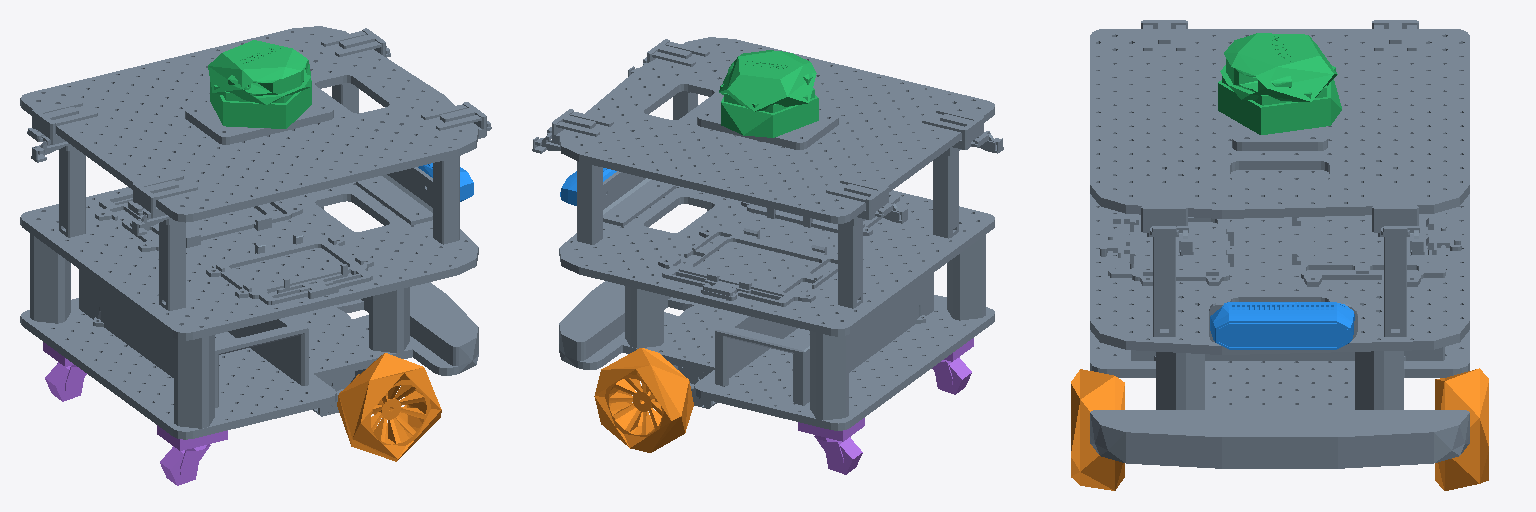
robot.urdf — ijkbot_locking_deck_rviz:
<?xml version="1.0"?>
<robot name="ijkbot_locking_deck_rviz">
  <!-- Статическая CAD-модель для RViz. Начала координат датчиков привязаны к корпусам. -->
  <material name="chassis_gray">
    <color rgba="0.54 0.60 0.66 1" />
  </material>
  <material name="lidar_green">
    <color rgba="0.22 0.78 0.46 1" />
  </material>
  <material name="camera_blue">
    <color rgba="0.20 0.62 1 1" />
  </material>
  <material name="wheel_amber">
    <color rgba="1 0.61 0.20 1" />
  </material>
  <material name="caster_purple">
    <color rgba="0.72 0.48 0.93 1" />
  </material>
  <link name="base_footprint" />
  <link name="base_link">
    <visual name="visual_0003">
      <origin xyz="-0.1763000 -0.0745500 -0.0424000" rpy="0 0 3.141592653589793" />
      <geometry>
        <mesh filename="package://description/meshes/locking_deck/body_0003.stl" />
      </geometry>
      <material name="chassis_gray" />
    </visual>
    <visual name="visual_0004">
      <origin xyz="-0.1763000 -0.0745500 -0.0424000" rpy="0 0 3.141592653589793" />
      <geometry>
        <mesh filename="package://description/meshes/locking_deck/body_0004.stl" />
      </geometry>
      <material name="chassis_gray" />
    </visual>
    <visual name="visual_0005">
      <origin xyz="-0.1763000 -0.0745500 -0.0424000" rpy="0 0 3.141592653589793" />
      <geometry>
        <mesh filename="package://description/meshes/locking_deck/body_0005.stl" />
      </geometry>
      <material name="chassis_gray" />
    </visual>
    <visual name="visual_0007">
      <origin xyz="-0.1763000 -0.0745500 -0.0424000" rpy="0 0 3.141592653589793" />
      <geometry>
        <mesh filename="package://description/meshes/locking_deck/body_0007.stl" />
      </geometry>
      <material name="chassis_gray" />
    </visual>
    <visual name="visual_0008">
      <origin xyz="-0.1763000 -0.0745500 -0.0424000" rpy="0 0 3.141592653589793" />
      <geometry>
        <mesh filename="package://description/meshes/locking_deck/body_0008.stl" />
      </geometry>
      <material name="chassis_gray" />
    </visual>
    <visual name="visual_0009">
      <origin xyz="-0.1763000 -0.0745500 -0.0424000" rpy="0 0 3.141592653589793" />
      <geometry>
        <mesh filename="package://description/meshes/locking_deck/body_0009.stl" />
      </geometry>
      <material name="chassis_gray" />
    </visual>
    <visual name="visual_0010">
      <origin xyz="-0.1763000 -0.0745500 -0.0424000" rpy="0 0 3.141592653589793" />
      <geometry>
        <mesh filename="package://description/meshes/locking_deck/body_0010.stl" />
      </geometry>
      <material name="chassis_gray" />
    </visual>
    <visual name="visual_0011">
      <origin xyz="-0.1763000 -0.0745500 -0.0424000" rpy="0 0 3.141592653589793" />
      <geometry>
        <mesh filename="package://description/meshes/locking_deck/body_0011.stl" />
      </geometry>
      <material name="chassis_gray" />
    </visual>
    <visual name="visual_0016">
      <origin xyz="-0.1763000 -0.0745500 -0.0424000" rpy="0 0 3.141592653589793" />
      <geometry>
        <mesh filename="package://description/meshes/locking_deck/body_0016.stl" />
      </geometry>
      <material name="chassis_gray" />
    </visual>
    <visual name="visual_0017">
      <origin xyz="-0.1763000 -0.0745500 -0.0424000" rpy="0 0 3.141592653589793" />
      <geometry>
        <mesh filename="package://description/meshes/locking_deck/body_0017.stl" />
      </geometry>
      <material name="chassis_gray" />
    </visual>
    <visual name="visual_0018">
      <origin xyz="-0.1763000 -0.0745500 -0.0424000" rpy="0 0 3.141592653589793" />
      <geometry>
        <mesh filename="package://description/meshes/locking_deck/body_0018.stl" />
      </geometry>
      <material name="chassis_gray" />
    </visual>
    <visual name="visual_0019">
      <origin xyz="-0.1763000 -0.0745500 -0.0424000" rpy="0 0 3.141592653589793" />
      <geometry>
        <mesh filename="package://description/meshes/locking_deck/body_0019.stl" />
      </geometry>
      <material name="chassis_gray" />
    </visual>
    <visual name="visual_0020">
      <origin xyz="-0.1763000 -0.0745500 -0.0424000" rpy="0 0 3.141592653589793" />
      <geometry>
        <mesh filename="package://description/meshes/locking_deck/body_0020.stl" />
      </geometry>
      <material name="chassis_gray" />
    </visual>
    <visual name="visual_0021">
      <origin xyz="-0.1763000 -0.0745500 -0.0424000" rpy="0 0 3.141592653589793" />
      <geometry>
        <mesh filename="package://description/meshes/locking_deck/body_0021.stl" />
      </geometry>
      <material name="chassis_gray" />
    </visual>
    <visual name="visual_0022">
      <origin xyz="-0.1763000 -0.0745500 -0.0424000" rpy="0 0 3.141592653589793" />
      <geometry>
        <mesh filename="package://description/meshes/locking_deck/body_0022.stl" />
      </geometry>
      <material name="chassis_gray" />
    </visual>
    <visual name="visual_0023">
      <origin xyz="-0.1763000 -0.0745500 -0.0424000" rpy="0 0 3.141592653589793" />
      <geometry>
        <mesh filename="package://description/meshes/locking_deck/body_0023.stl" />
      </geometry>
      <material name="chassis_gray" />
    </visual>
    <visual name="visual_0024">
      <origin xyz="-0.1763000 -0.0745500 -0.0424000" rpy="0 0 3.141592653589793" />
      <geometry>
        <mesh filename="package://description/meshes/locking_deck/body_0024.stl" />
      </geometry>
      <material name="chassis_gray" />
    </visual>
    <visual name="visual_0025">
      <origin xyz="-0.1763000 -0.0745500 -0.0424000" rpy="0 0 3.141592653589793" />
      <geometry>
        <mesh filename="package://description/meshes/locking_deck/body_0025.stl" />
      </geometry>
      <material name="chassis_gray" />
    </visual>
    <visual name="visual_0028">
      <origin xyz="-0.1763000 -0.0745500 -0.0424000" rpy="0 0 3.141592653589793" />
      <geometry>
        <mesh filename="package://description/meshes/locking_deck/body_0028.stl" />
      </geometry>
      <material name="chassis_gray" />
    </visual>
    <visual name="visual_0029">
      <origin xyz="-0.1763000 -0.0745500 -0.0424000" rpy="0 0 3.141592653589793" />
      <geometry>
        <mesh filename="package://description/meshes/locking_deck/body_0029.stl" />
      </geometry>
      <material name="chassis_gray" />
    </visual>
    <visual name="visual_0030">
      <origin xyz="-0.1763000 -0.0745500 -0.0424000" rpy="0 0 3.141592653589793" />
      <geometry>
        <mesh filename="package://description/meshes/locking_deck/body_0030.stl" />
      </geometry>
      <material name="chassis_gray" />
    </visual>
    <visual name="visual_0031">
      <origin xyz="-0.1763000 -0.0745500 -0.0424000" rpy="0 0 3.141592653589793" />
      <geometry>
        <mesh filename="package://description/meshes/locking_deck/body_0031.stl" />
      </geometry>
      <material name="chassis_gray" />
    </visual>
    <visual name="visual_0032">
      <origin xyz="-0.1763000 -0.0745500 -0.0424000" rpy="0 0 3.141592653589793" />
      <geometry>
        <mesh filename="package://description/meshes/locking_deck/body_0032.stl" />
      </geometry>
      <material name="chassis_gray" />
    </visual>
    <visual name="visual_0033">
      <origin xyz="-0.1763000 -0.0745500 -0.0424000" rpy="0 0 3.141592653589793" />
      <geometry>
        <mesh filename="package://description/meshes/locking_deck/body_0033.stl" />
      </geometry>
      <material name="chassis_gray" />
    </visual>
    <visual name="visual_0034">
      <origin xyz="-0.1763000 -0.0745500 -0.0424000" rpy="0 0 3.141592653589793" />
      <geometry>
        <mesh filename="package://description/meshes/locking_deck/body_0034.stl" />
      </geometry>
      <material name="chassis_gray" />
    </visual>
    <visual name="visual_0035">
      <origin xyz="-0.1763000 -0.0745500 -0.0424000" rpy="0 0 3.141592653589793" />
      <geometry>
        <mesh filename="package://description/meshes/locking_deck/body_0035.stl" />
      </geometry>
      <material name="chassis_gray" />
    </visual>
    <visual name="visual_0036">
      <origin xyz="-0.1763000 -0.0745500 -0.0424000" rpy="0 0 3.141592653589793" />
      <geometry>
        <mesh filename="package://description/meshes/locking_deck/body_0036.stl" />
      </geometry>
      <material name="chassis_gray" />
    </visual>
    <visual name="visual_0039">
      <origin xyz="-0.1763000 -0.0745500 -0.0424000" rpy="0 0 3.141592653589793" />
      <geometry>
        <mesh filename="package://description/meshes/locking_deck/body_0039.stl" />
      </geometry>
      <material name="chassis_gray" />
    </visual>
  </link>
  <joint name="base_joint" type="fixed">
    <parent link="base_footprint" />
    <child link="base_link" />
    <origin xyz="0.0000000 0.0000000 0.0375000" />
  </joint>
  <link name="lidar_link">
    <visual name="visual_0026">
      <origin xyz="-0.1350000 -0.0740000 -0.2673000" rpy="0 0 3.141592653589793" />
      <geometry>
        <mesh filename="package://description/meshes/locking_deck/body_0026.stl" />
      </geometry>
      <material name="lidar_green" />
    </visual>
    <visual name="visual_0027">
      <origin xyz="-0.1350000 -0.0740000 -0.2673000" rpy="0 0 3.141592653589793" />
      <geometry>
        <mesh filename="package://description/meshes/locking_deck/body_0027.stl" />
      </geometry>
      <material name="lidar_green" />
    </visual>
  </link>
  <joint name="lidar_joint" type="fixed">
    <parent link="base_link" />
    <child link="lidar_link" />
    <origin xyz="-0.0413000 -0.0005500 0.2249000" />
  </joint>
  <link name="camera_link">
    <visual name="visual_0037">
      <origin xyz="-0.2730000 -0.0762000 -0.1562000" rpy="0 0 3.141592653589793" />
      <geometry>
        <mesh filename="package://description/meshes/locking_deck/body_0037.stl" />
      </geometry>
      <material name="camera_blue" />
    </visual>
    <visual name="visual_0038">
      <origin xyz="-0.2730000 -0.0762000 -0.1562000" rpy="0 0 3.141592653589793" />
      <geometry>
        <mesh filename="package://description/meshes/locking_deck/body_0038.stl" />
      </geometry>
      <material name="camera_blue" />
    </visual>
  </link>
  <joint name="camera_joint" type="fixed">
    <parent link="base_link" />
    <child link="camera_link" />
    <origin xyz="0.0967000 0.0016500 0.1138000" />
  </joint>
  <link name="wheel_left_link">
    <visual name="visual_0012">
      <origin xyz="-0.1763000 -0.1849000 -0.0424000" rpy="0 0 3.141592653589793" />
      <geometry>
        <mesh filename="package://description/meshes/locking_deck/body_0012.stl" />
      </geometry>
      <material name="wheel_amber" />
    </visual>
    <visual name="visual_0013">
      <origin xyz="-0.1763000 -0.1849000 -0.0424000" rpy="0 0 3.141592653589793" />
      <geometry>
        <mesh filename="package://description/meshes/locking_deck/body_0013.stl" />
      </geometry>
      <material name="wheel_amber" />
    </visual>
  </link>
  <joint name="wheel_left_joint" type="fixed">
    <parent link="base_link" />
    <child link="wheel_left_link" />
    <origin xyz="0.0000000 0.1103500 0.0000000" />
  </joint>
  <link name="wheel_right_link">
    <visual name="visual_0001">
      <origin xyz="-0.1763000 0.0358000 -0.0424000" rpy="0 0 3.141592653589793" />
      <geometry>
        <mesh filename="package://description/meshes/locking_deck/body_0001.stl" />
      </geometry>
      <material name="wheel_amber" />
    </visual>
    <visual name="visual_0002">
      <origin xyz="-0.1763000 0.0358000 -0.0424000" rpy="0 0 3.141592653589793" />
      <geometry>
        <mesh filename="package://description/meshes/locking_deck/body_0002.stl" />
      </geometry>
      <material name="wheel_amber" />
    </visual>
  </link>
  <joint name="wheel_right_joint" type="fixed">
    <parent link="base_link" />
    <child link="wheel_right_link" />
    <origin xyz="0.0000000 -0.1103500 0.0000000" />
  </joint>
  <link name="caster_left_link">
    <visual name="visual_0000">
      <origin xyz="-0.0339000 -0.1546000 -0.0255000" rpy="0 0 3.141592653589793" />
      <geometry>
        <mesh filename="package://description/meshes/locking_deck/body_0000.stl" />
      </geometry>
      <material name="caster_purple" />
    </visual>
    <visual name="visual_0006">
      <origin xyz="-0.0339000 -0.1546000 -0.0255000" rpy="0 0 3.141592653589793" />
      <geometry>
        <mesh filename="package://description/meshes/locking_deck/body_0006.stl" />
      </geometry>
      <material name="caster_purple" />
    </visual>
  </link>
  <joint name="caster_left_joint" type="fixed">
    <parent link="base_link" />
    <child link="caster_left_link" />
    <origin xyz="-0.1424000 0.0800500 -0.0169000" />
  </joint>
  <link name="caster_right_link">
    <visual name="visual_0014">
      <origin xyz="-0.0339000 0.0054000 -0.0255000" rpy="0 0 3.141592653589793" />
      <geometry>
        <mesh filename="package://description/meshes/locking_deck/body_0014.stl" />
      </geometry>
      <material name="caster_purple" />
    </visual>
    <visual name="visual_0015">
      <origin xyz="-0.0339000 0.0054000 -0.0255000" rpy="0 0 3.141592653589793" />
      <geometry>
        <mesh filename="package://description/meshes/locking_deck/body_0015.stl" />
      </geometry>
      <material name="caster_purple" />
    </visual>
  </link>
  <joint name="caster_right_joint" type="fixed">
    <parent link="base_link" />
    <child link="caster_right_link" />
    <origin xyz="-0.1424000 -0.0799500 -0.0169000" />
  </joint>
</robot>

--- Render facts (derived) ---
3 views of the same robot in one strip: view 1: azimuth 30°, elevation 25°; view 2: azimuth 150°, elevation 25°; view 3: azimuth 270°, elevation 25° (orthographic).
Robot: ijkbot_locking_deck_rviz — 8 links, 7 joints (7 fixed); root link base_footprint; default pose: every joint at zero.
Visible links, largest first — view 1: base_link, wheel_right_link, lidar_link, caster_right_link, caster_left_link; view 2: base_link, wheel_left_link, lidar_link, caster_left_link, caster_right_link; view 3: base_link, lidar_link, camera_link, wheel_right_link, wheel_left_link.
Boxes of the visible links, x1,y1,x2,y2 form: base_link: (20,26,491,439); wheel_right_link: (337,353,441,461); lidar_link: (208,40,311,128); caster_right_link: (157,425,227,485); caster_left_link: (43,342,86,401); base_link: (532,37,1003,430); wheel_left_link: (594,348,693,452); lidar_link: (719,50,818,137); caster_left_link: (798,418,864,474); caster_right_link: (932,338,973,394); base_link: (1090,20,1469,468); lidar_link: (1218,33,1341,134); camera_link: (1210,302,1354,349); wheel_right_link: (1071,369,1124,490); wheel_left_link: (1435,368,1488,490).
Bounding box of the posed robot: 0.2987 × 0.2537 × 0.2732 m (x, y, z).
40 mesh visuals loaded from 40 distinct referenced files (40 binary STL).
